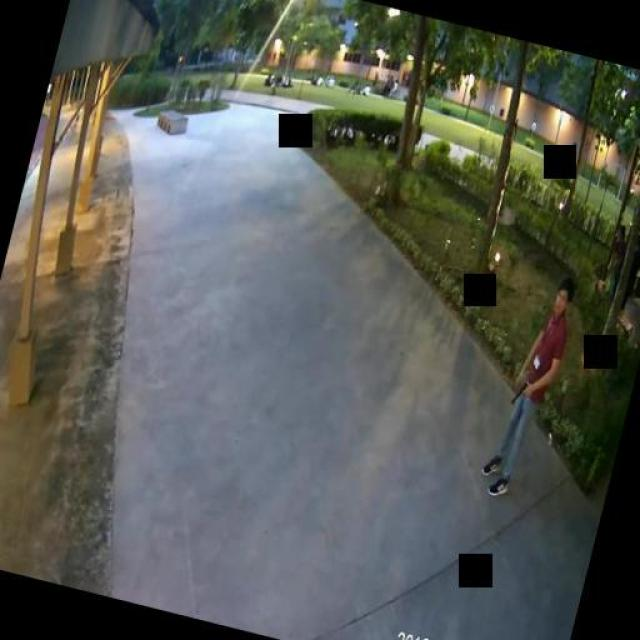gun: (510, 376, 531, 405)
